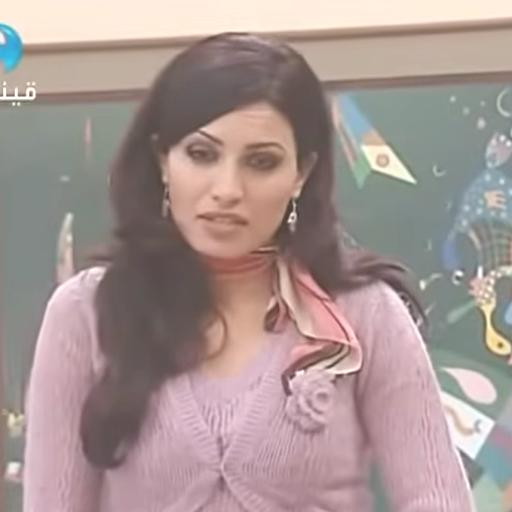Dalanda: (157, 103, 314, 258)
